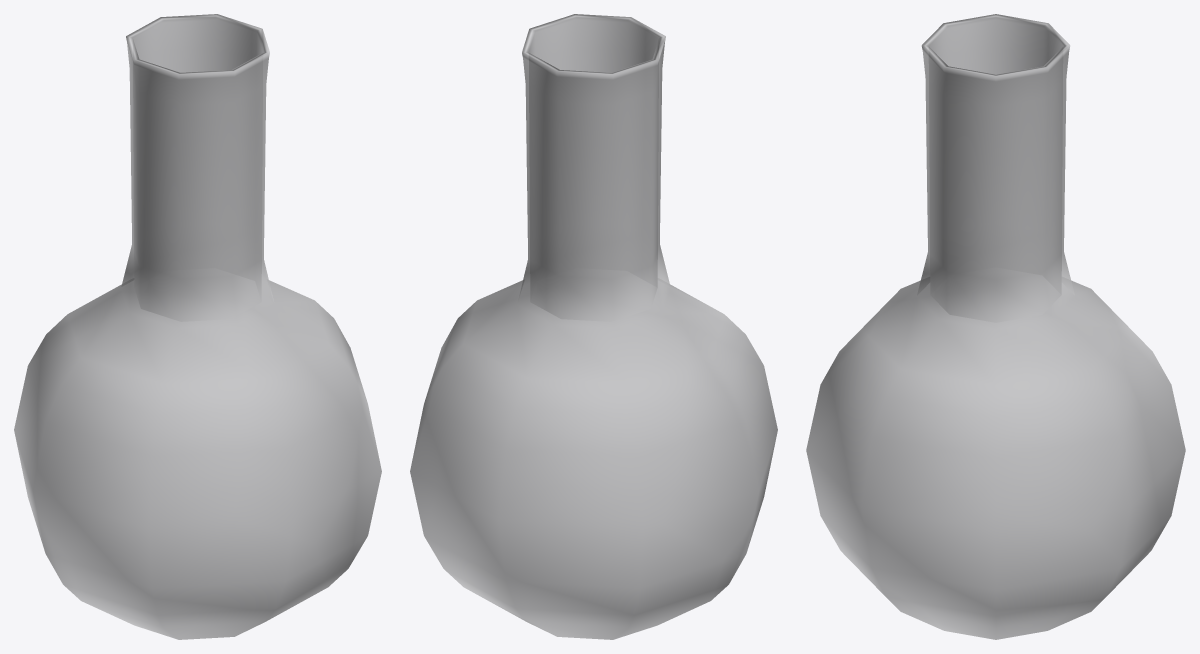
File: LabDesk_Object_FlorenceFlaskEmpty.fbx
The picture shows the model from 3 angles, left to right: view 1: azimuth 30°, elevation 25°; view 2: azimuth 150°, elevation 25°; view 3: azimuth 270°, elevation 25°; orthographic projection.
Parts seen in each view (by area): view 1: LabDesk_Object_FlorenceFlaskEmpty; view 2: LabDesk_Object_FlorenceFlaskEmpty; view 3: LabDesk_Object_FlorenceFlaskEmpty.
Boxes of the visible parts, bbox=[...] form: LabDesk_Object_FlorenceFlaskEmpty: bbox=[14, 14, 381, 639]; LabDesk_Object_FlorenceFlaskEmpty: bbox=[410, 14, 777, 639]; LabDesk_Object_FlorenceFlaskEmpty: bbox=[806, 14, 1185, 639].
Bounding box in the file's own units: 5.94 × 9.96 × 5.94.
1 material, 1 textured.
